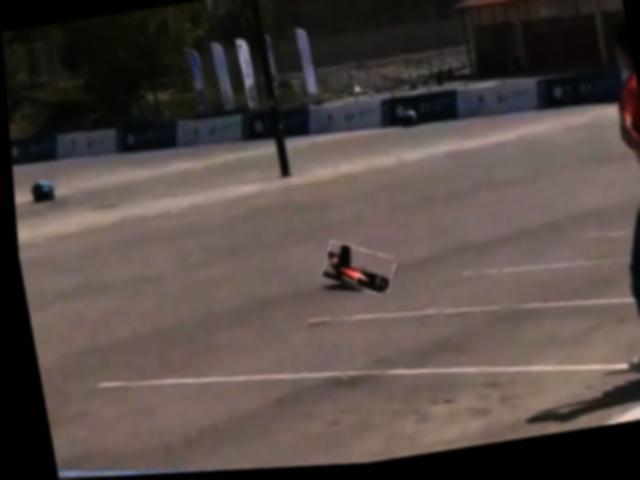insansiz-hava-araci: (315, 242, 394, 302)
